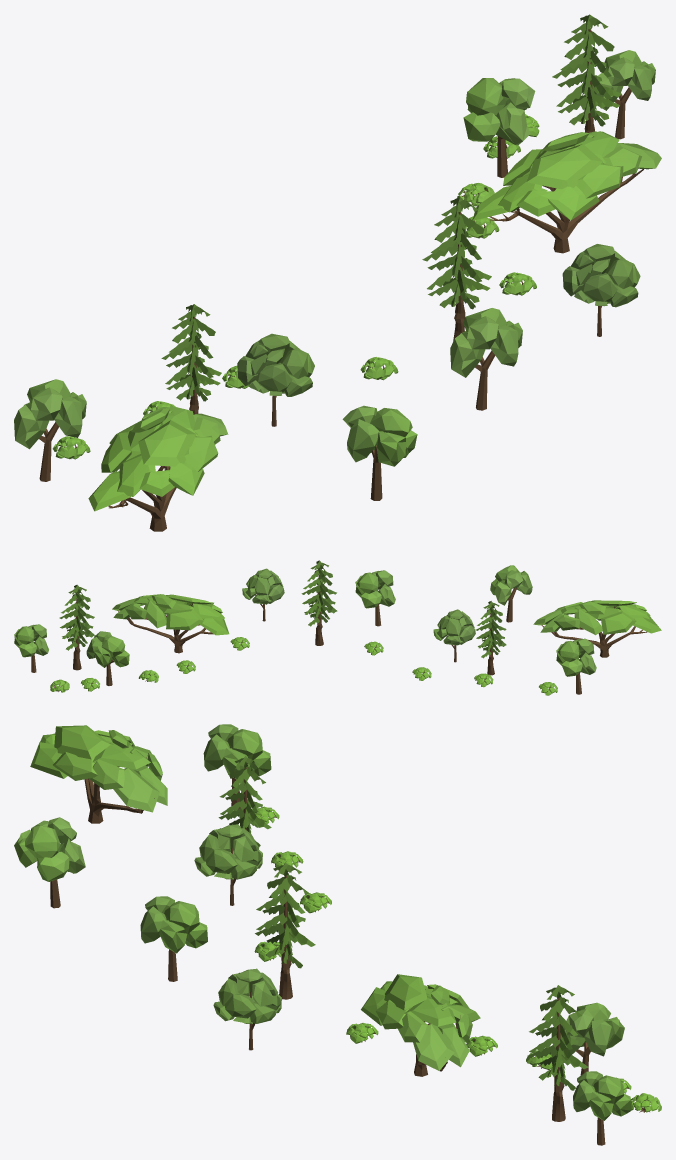
Rendered from TreeGroup 5.fbx.
3 views of the same model, one above another, from view 1: azimuth 30°, elevation 25°; view 2: azimuth 150°, elevation 25°; view 3: azimuth 270°, elevation 25° (orthographic). The views are drawn at different scales.
Parts seen in each view (by area): view 1: TreeGroup__5__mesh_mesh; view 2: TreeGroup__5__mesh_mesh; view 3: TreeGroup__5__mesh_mesh.
Boxes of the visible parts, <box> form: TreeGroup__5__mesh_mesh: <box>14,14,661,531</box>; TreeGroup__5__mesh_mesh: <box>14,560,661,695</box>; TreeGroup__5__mesh_mesh: <box>14,724,661,1145</box>.
Bounding box in the file's own units: 8372 × 1420 × 6145.
